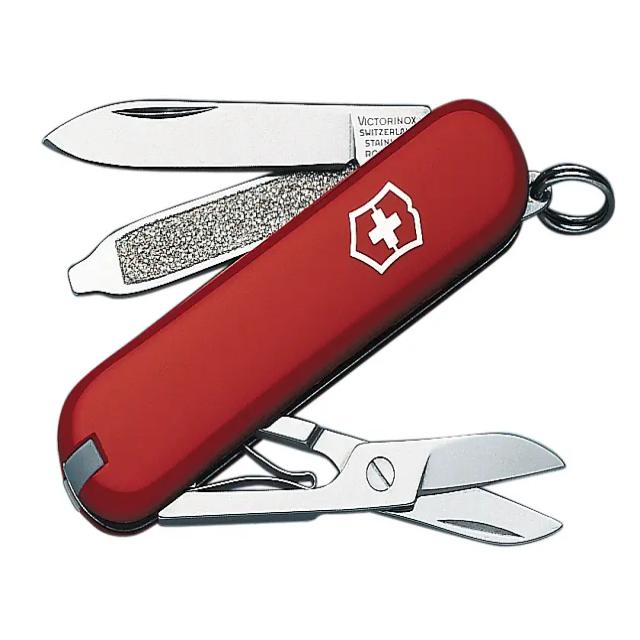knife victorinox: (58, 99, 545, 533)
